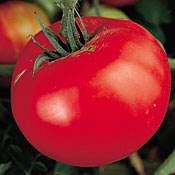tomato: (12, 17, 170, 167)
